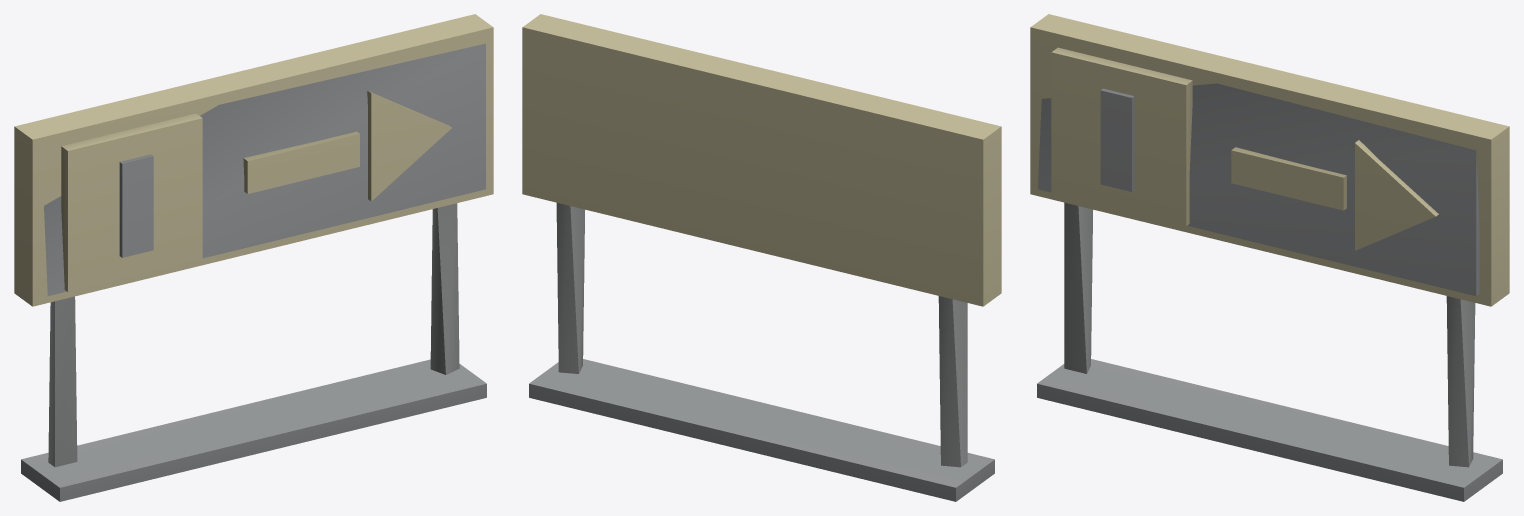
File: twysign.lod1.glb
3 views of the same model, side by side, from view 1: azimuth 30°, elevation 25°; view 2: azimuth 150°, elevation 25°; view 3: azimuth 330°, elevation 25° (orthographic).
Bounding box in the file's own units: 2.05 × 1.52 × 0.3.
